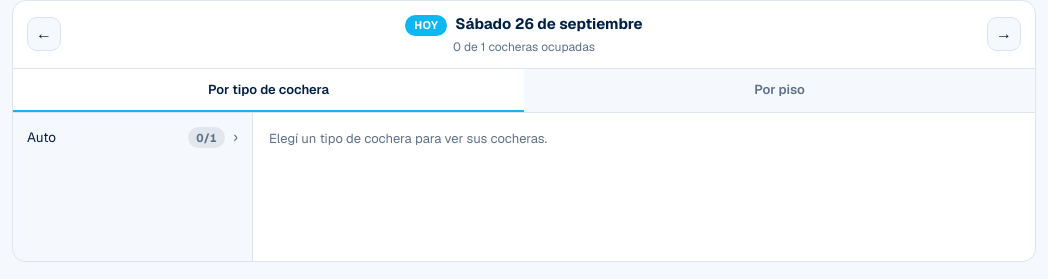
it: OcupacionCocheras: moverse entre días › el botón Hoy vuelve al día actual y desaparece cuando ya estás ahí
Check: the text "Hoy" is shown, box [405, 15, 447, 36]
Click the button named "día siguiente" at [1004, 34], box [987, 17, 1021, 51]
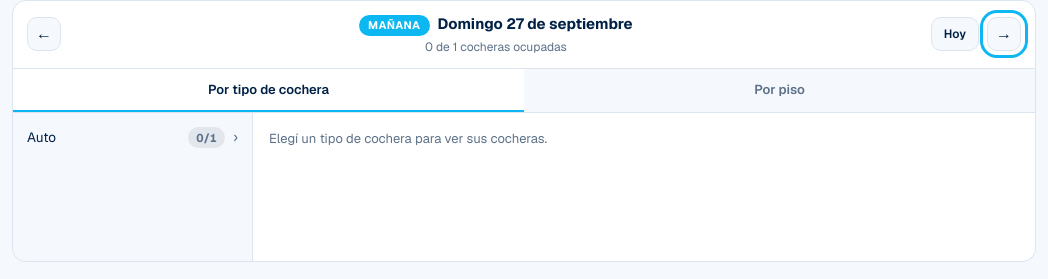
Click the button "Hoy" at [955, 34], box [931, 17, 979, 51]
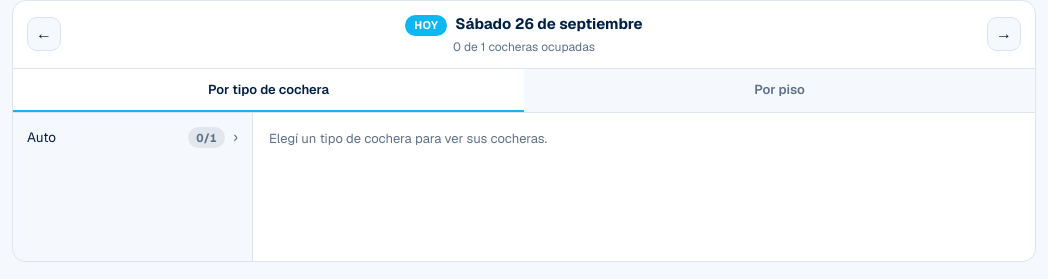
Check: the text "sábado 26 de septiembre" is shown, box [455, 13, 643, 36]
